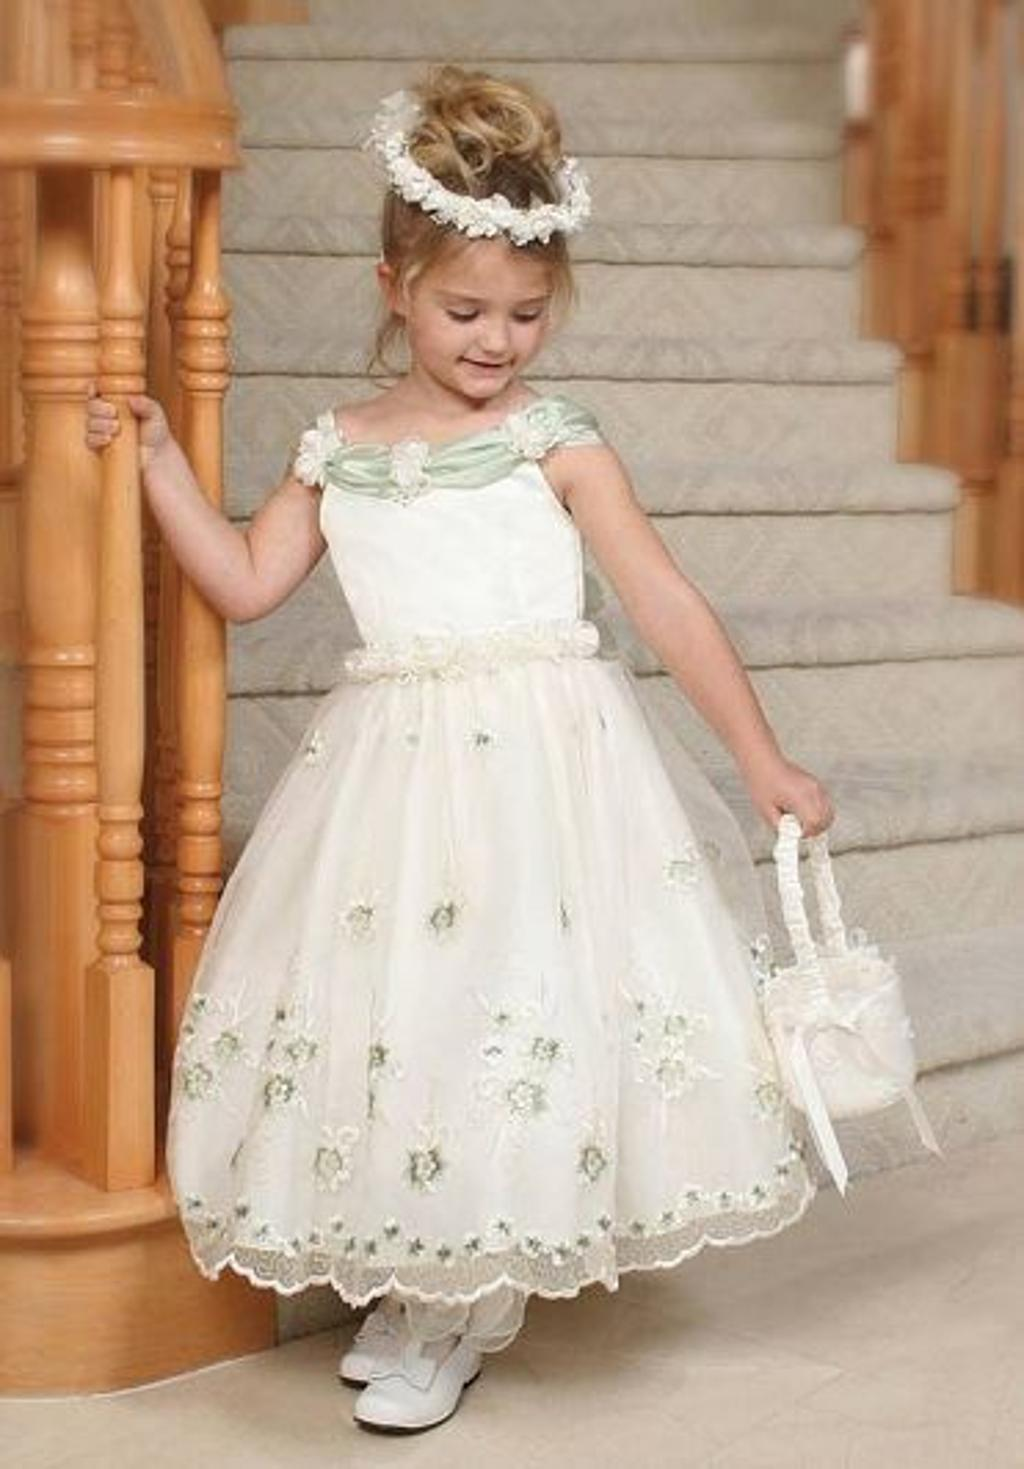face: (402, 212, 545, 396)
